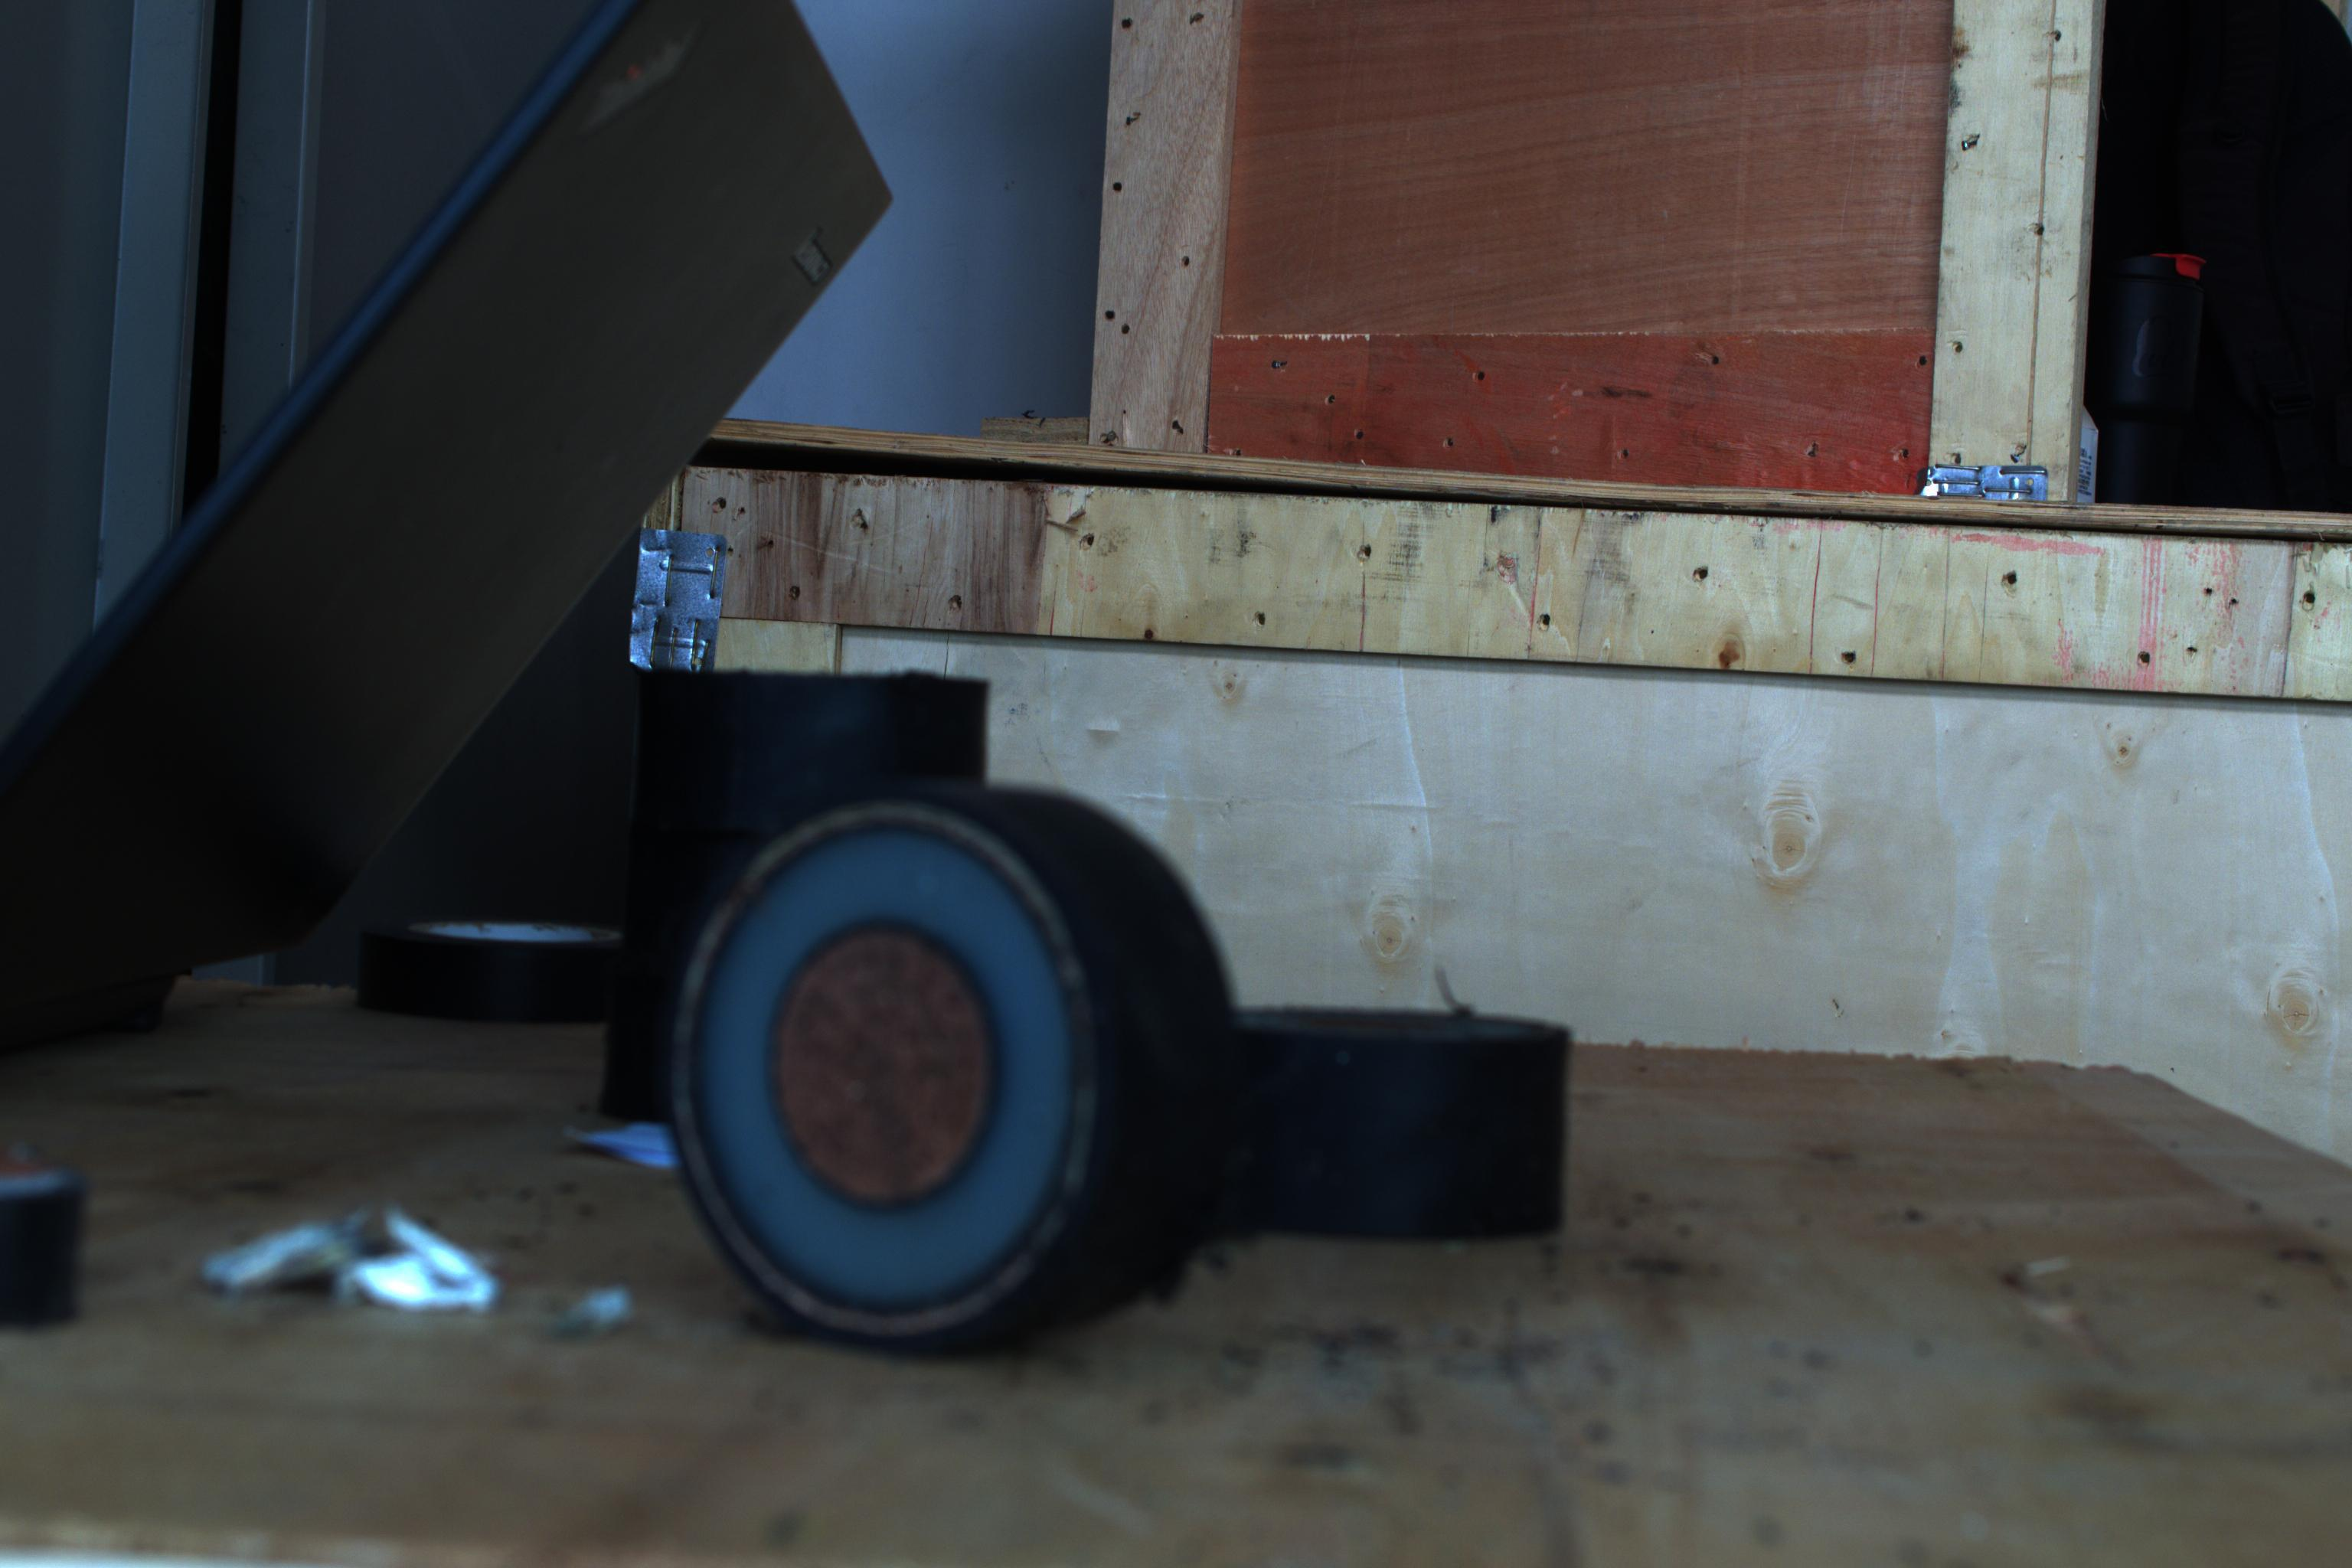YJV_26_35kV_1x630: (639, 798, 1125, 1356)
